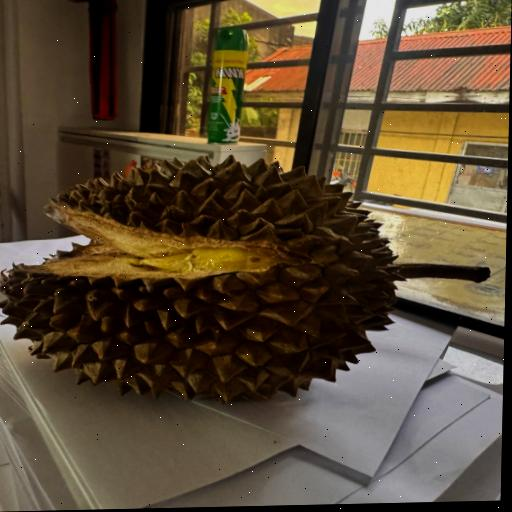rot: (0, 116, 509, 418)
